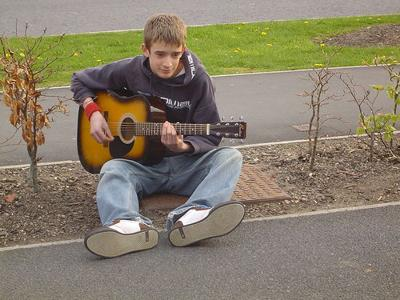person: (70, 13, 245, 258)
